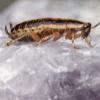cockroach: (4, 16, 94, 45)
